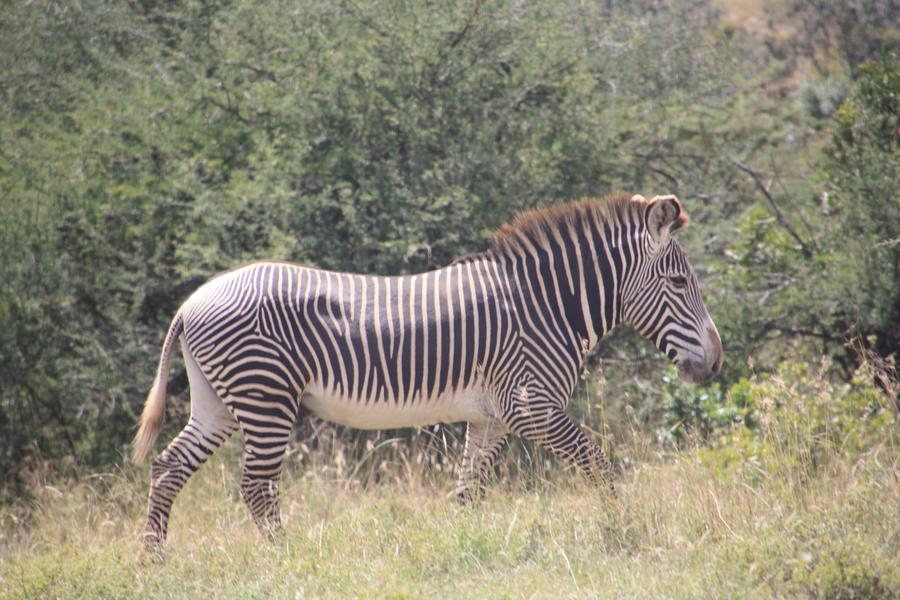zebra_grevys: (182, 265, 568, 404)
